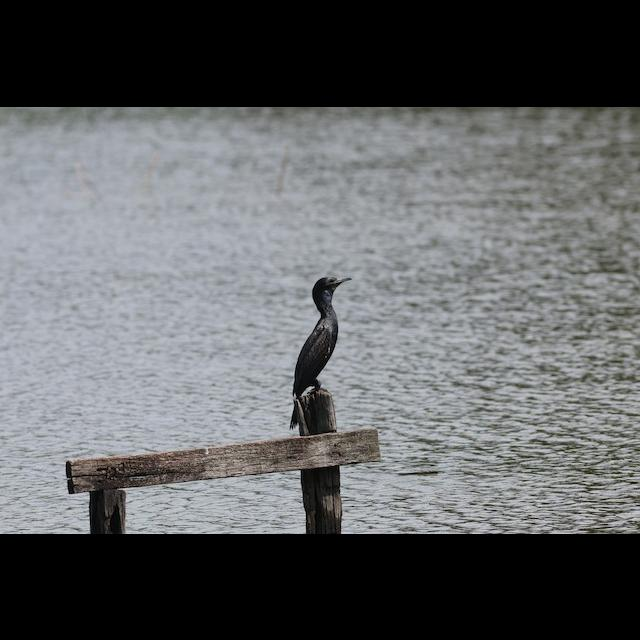cormorant: (286, 269, 354, 421)
